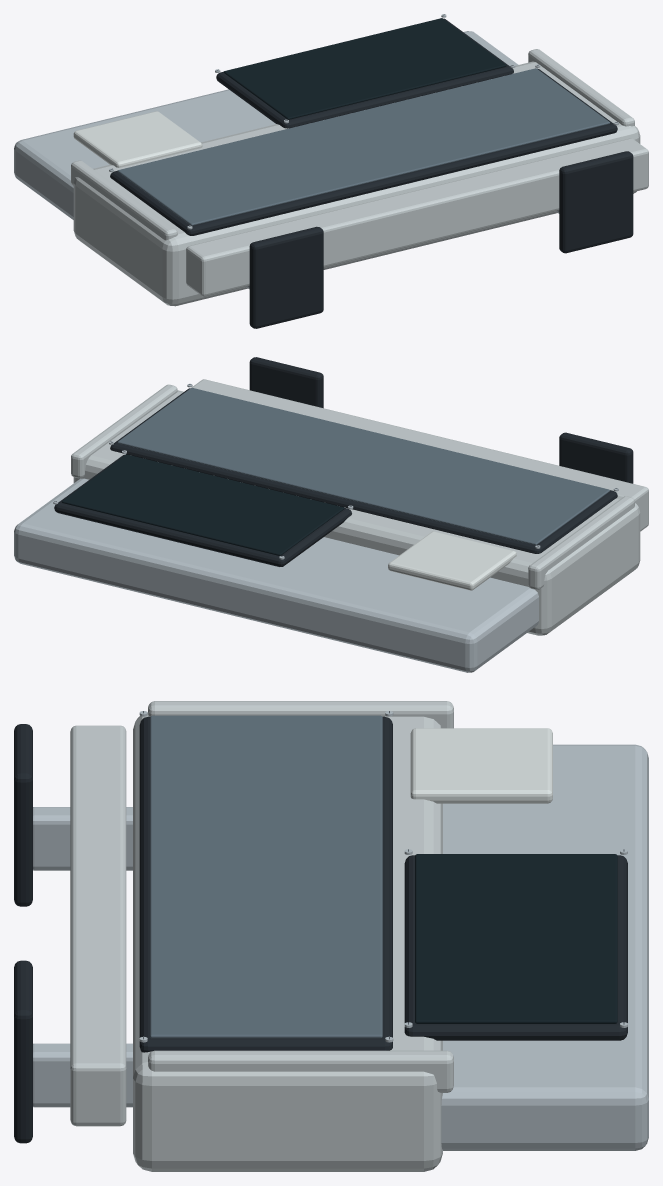
Rendered from fill.glb.
3 renders of one model, top to bottom at view 1: azimuth 30°, elevation 25°; view 2: azimuth 150°, elevation 25°; view 3: azimuth 270°, elevation 25°, orthographic. The views are drawn at different scales.
Visible parts, largest first — view 1: deck live content surface.013, Lower service fascia.002, Sloped desk body.003, screen live content surface.013, Rear instrument riser.003, Rubber machine foot.022, Rubber machine foot.023, deck mounting bezel.013, Equipment identity plate.013, screen mounting bezel.013, Raised desk end cap.006, Raised desk end cap.007; view 2: Rear instrument riser.003, deck live content surface.013, screen live content surface.013, Sloped desk body.003, Lower service fascia.002, deck mounting bezel.013, Equipment identity plate.013, screen mounting bezel.013, Rubber machine foot.022, Rubber machine foot.023, Raised desk end cap.006, Raised desk end cap.007; view 3: deck live content surface.013, Rear instrument riser.003, Sloped desk body.003, screen live content surface.013, Lower service fascia.002, Equipment identity plate.013, deck mounting bezel.013, screen mounting bezel.013, Raised desk end cap.007, Raised desk end cap.006, Rubber machine foot.023, Rubber machine foot.022 (+2 smaller).
Part boxes in pixels (x1,y1,x2,y2): deck live content surface.013: (117, 68, 609, 225); Lower service fascia.002: (186, 138, 648, 296); Sloped desk body.003: (73, 61, 640, 306); screen live content surface.013: (223, 18, 506, 119); Rear instrument riser.003: (14, 31, 518, 219); Rubber machine foot.022: (249, 226, 323, 328); Rubber machine foot.023: (559, 151, 633, 253); deck mounting bezel.013: (110, 68, 617, 235); Equipment identity plate.013: (73, 111, 202, 167); screen mounting bezel.013: (216, 18, 513, 128); Raised desk end cap.006: (71, 160, 177, 240); Raised desk end cap.007: (528, 49, 634, 126); Rear instrument riser.003: (14, 478, 538, 672); deck live content surface.013: (117, 388, 609, 545); screen live content surface.013: (62, 454, 344, 555); Sloped desk body.003: (73, 390, 640, 635); Lower service fascia.002: (191, 379, 648, 531); deck mounting bezel.013: (110, 388, 617, 553); Equipment identity plate.013: (388, 531, 516, 590); screen mounting bezel.013: (54, 454, 351, 566); Rubber machine foot.022: (559, 432, 633, 483); Rubber machine foot.023: (249, 357, 323, 408); Raised desk end cap.006: (528, 496, 634, 589); Raised desk end cap.007: (71, 384, 177, 478); deck live content surface.013: (150, 715, 382, 1038); Rear instrument riser.003: (441, 744, 648, 1150); Sloped desk body.003: (133, 712, 442, 1171); screen live content surface.013: (415, 854, 617, 1023); Lower service fascia.002: (70, 725, 126, 1126); Equipment identity plate.013: (410, 728, 552, 803); deck mounting bezel.013: (139, 716, 392, 1052); screen mounting bezel.013: (404, 855, 627, 1040); Raised desk end cap.007: (148, 1050, 453, 1092); Raised desk end cap.006: (148, 701, 453, 728); Rubber machine foot.023: (14, 960, 32, 1143); Rubber machine foot.022: (14, 724, 32, 906).
Bounding box in the file's own units: 10 × 1.7 × 7.37.
